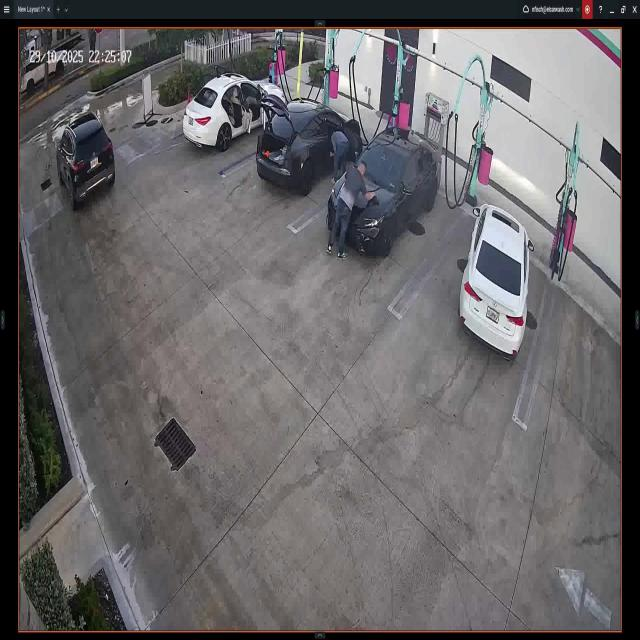Car: (330, 129, 442, 259), (456, 201, 531, 362), (252, 97, 361, 193), (181, 73, 283, 149), (54, 113, 117, 208)
